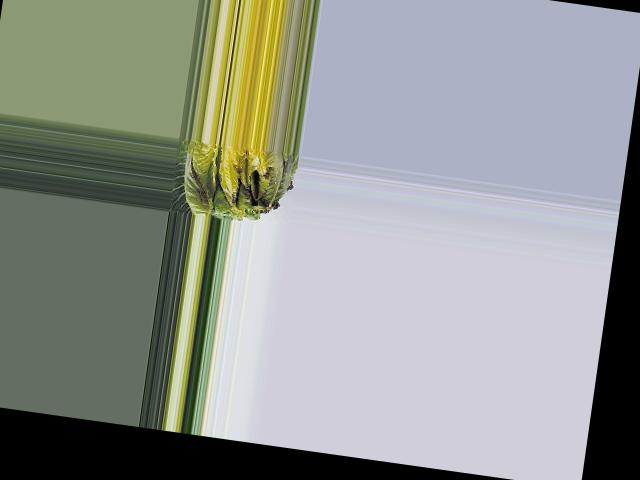lettuce: (169, 137, 295, 225)
